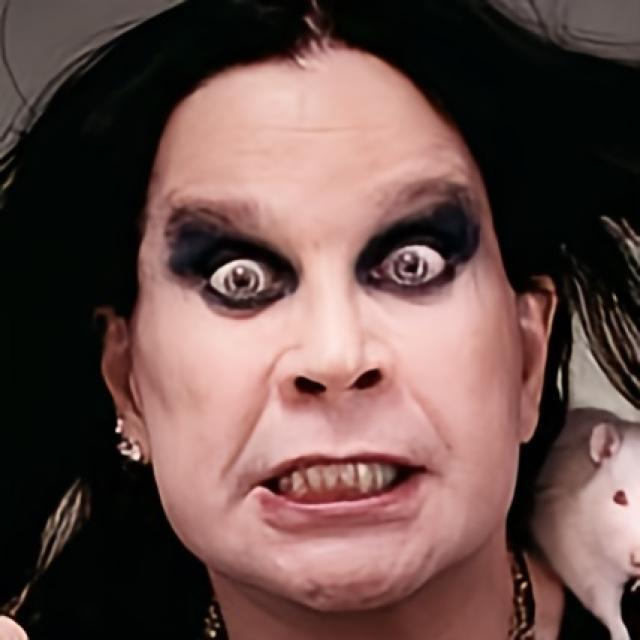anger: (135, 39, 528, 616)
